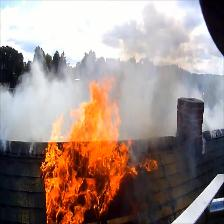fire: (64, 114, 119, 204)
smoke: (112, 51, 182, 119), (3, 80, 49, 133), (128, 18, 178, 42)
